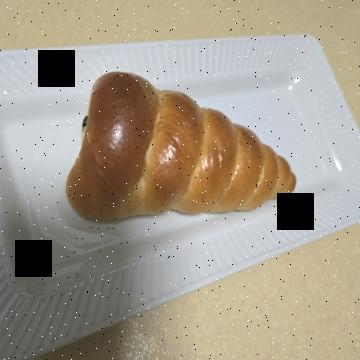cream horn: (63, 58, 262, 312)
